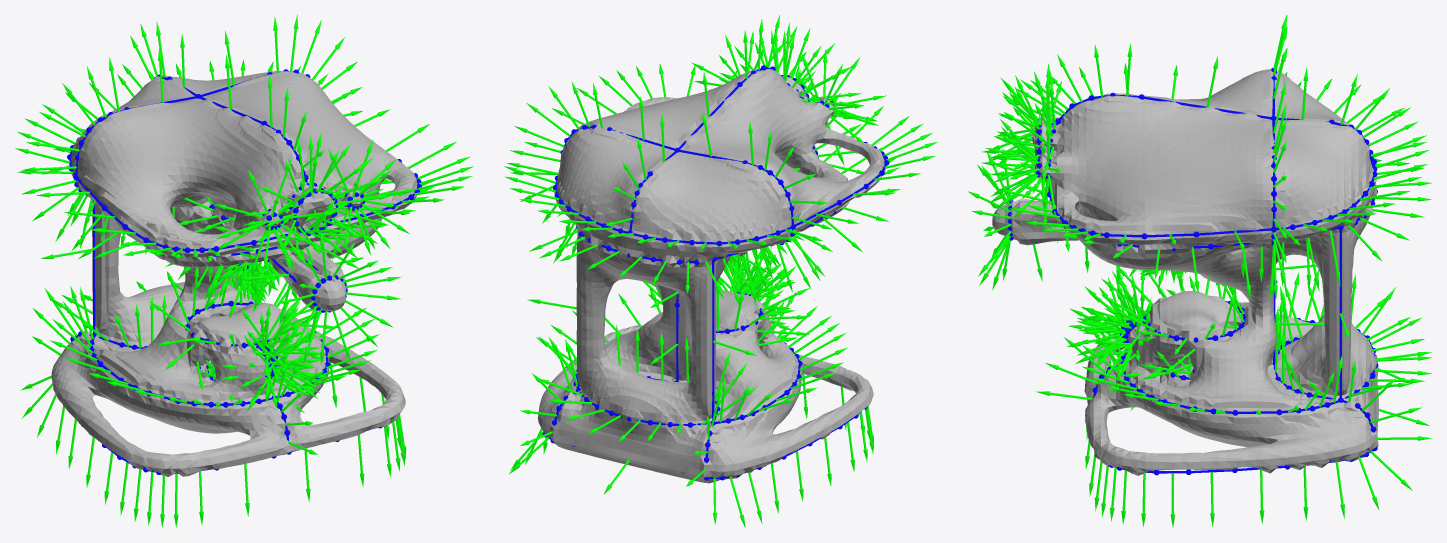
File: flowsurf_expresso.gltf
The picture shows the model from 3 angles, left to right: view 1: azimuth 30°, elevation 25°; view 2: azimuth 150°, elevation 25°; view 3: azimuth 270°, elevation 25°; orthographic projection. The views are drawn at different scales.
Bounding box in the file's own units: 0.7159 × 0.7795 × 0.7848.
